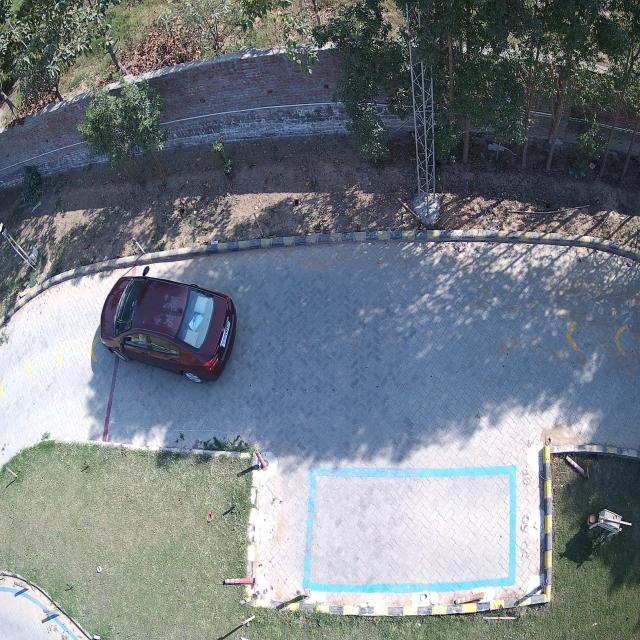car: (99, 268, 236, 383)
